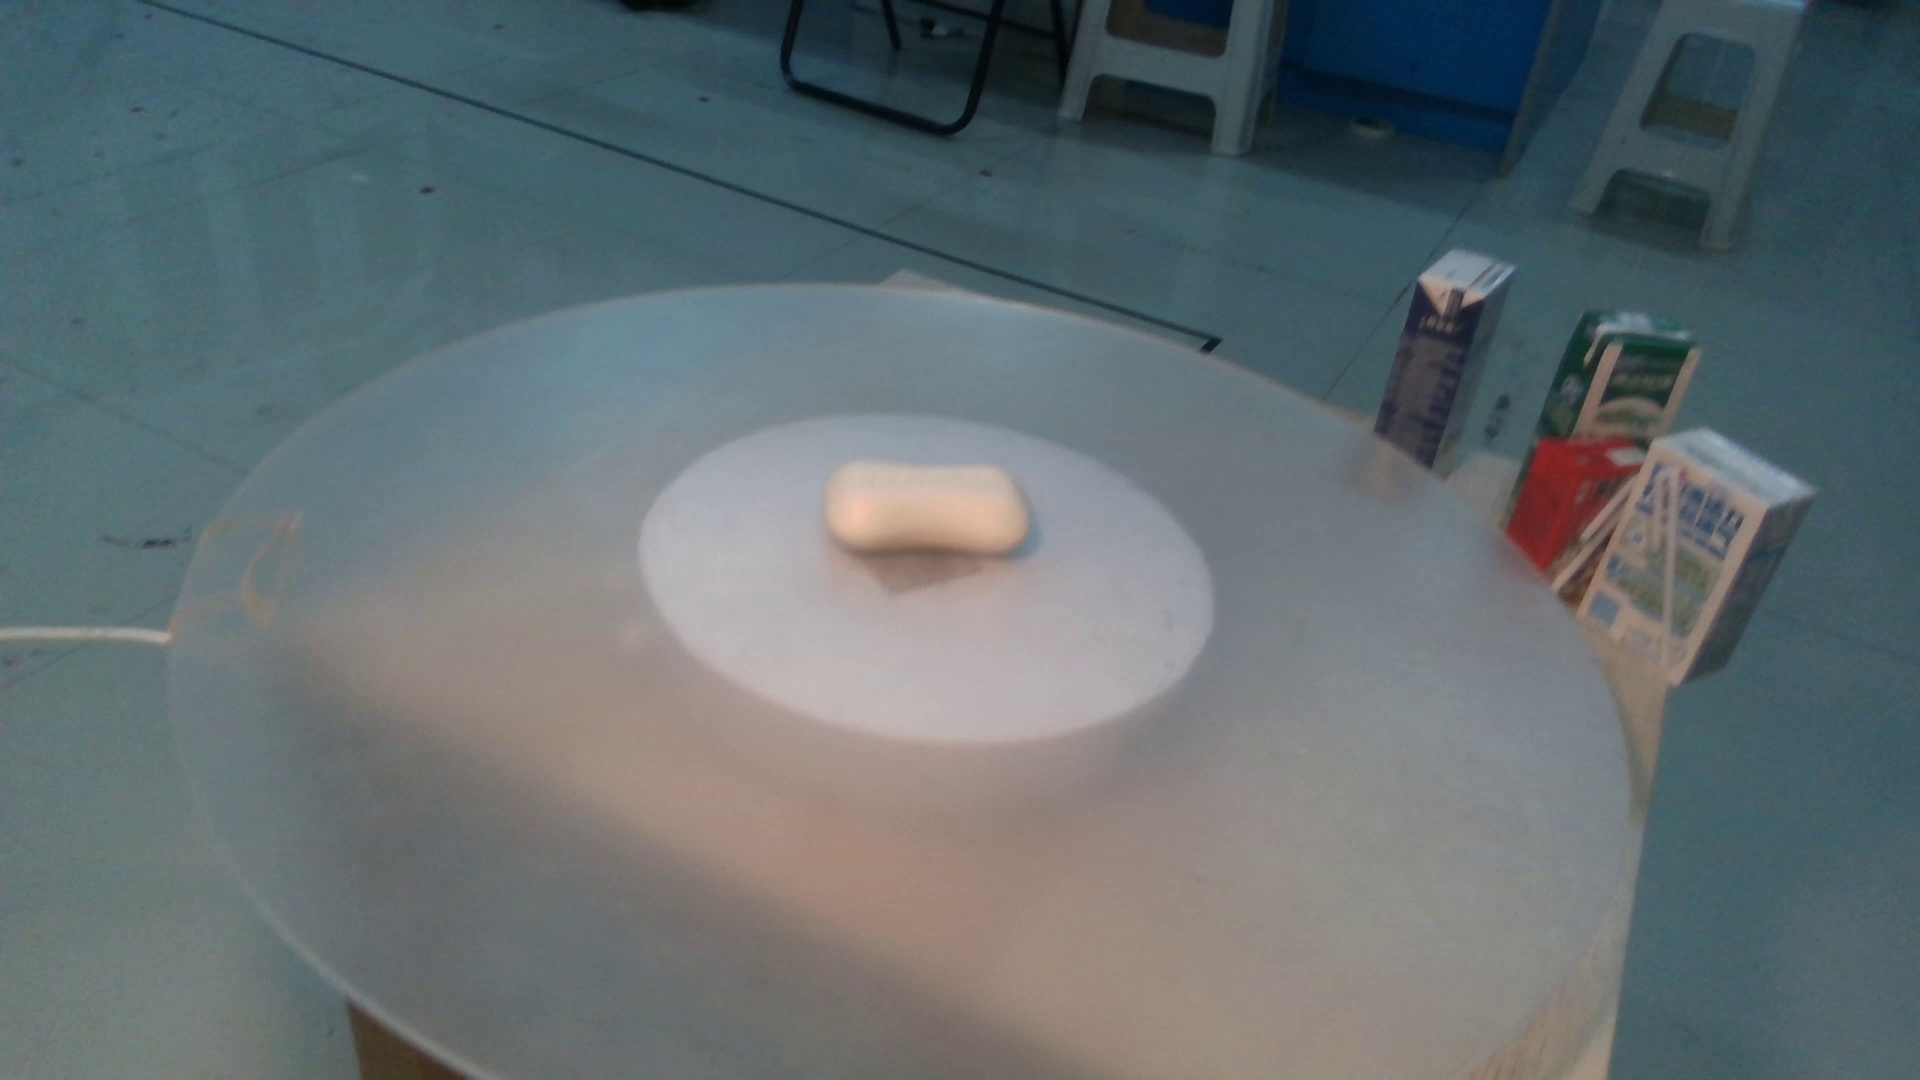CA003_1: (807, 418, 1065, 597)
